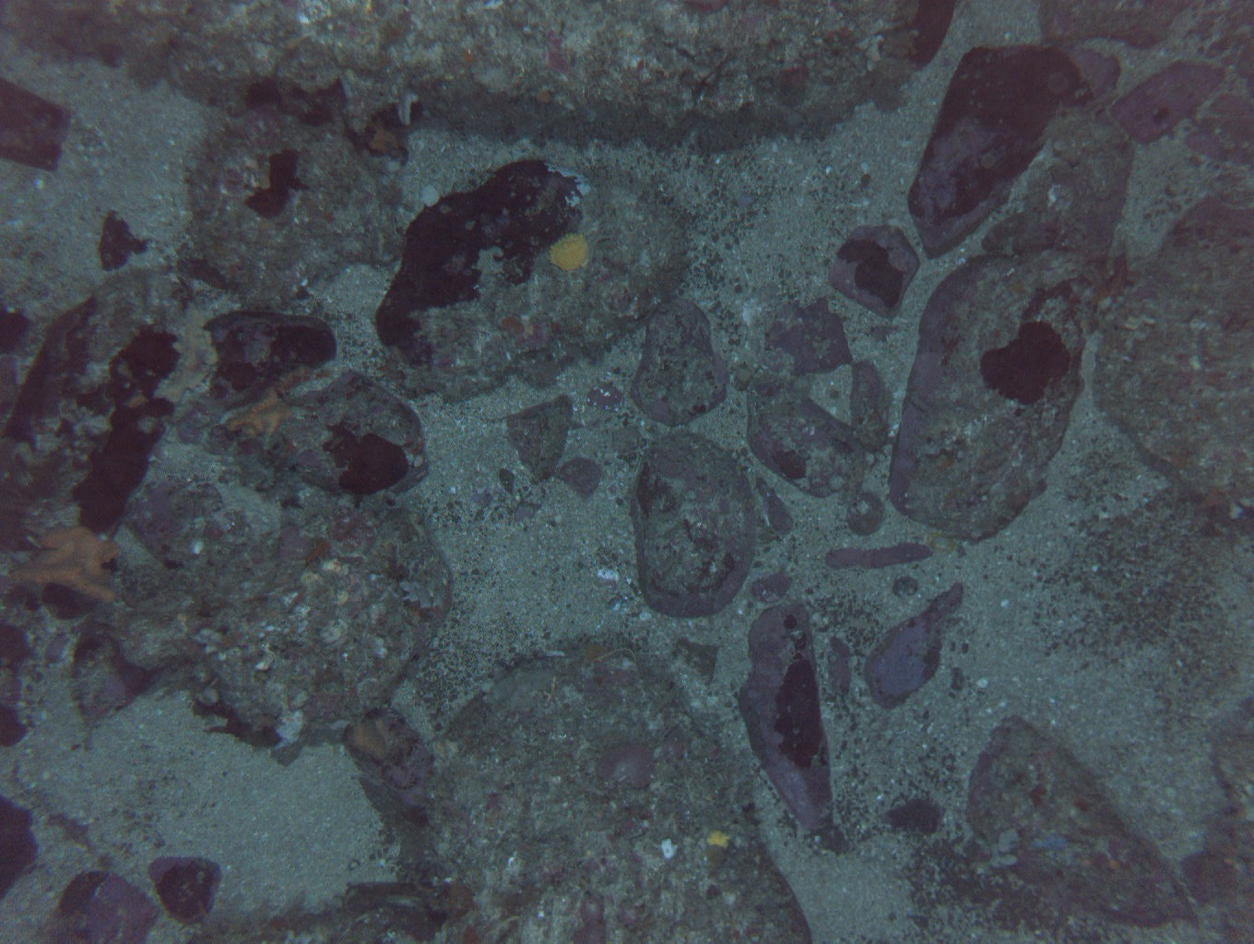Brachionichthyidae: (1090, 252, 1138, 308)
